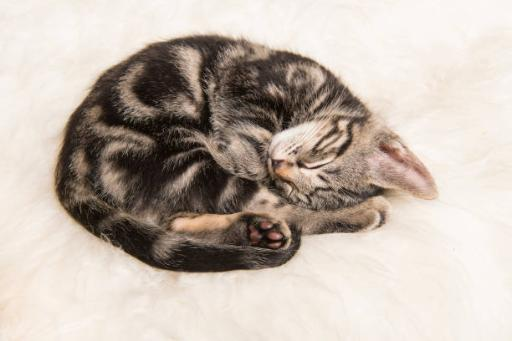cat_sleeping: (56, 35, 437, 271)
